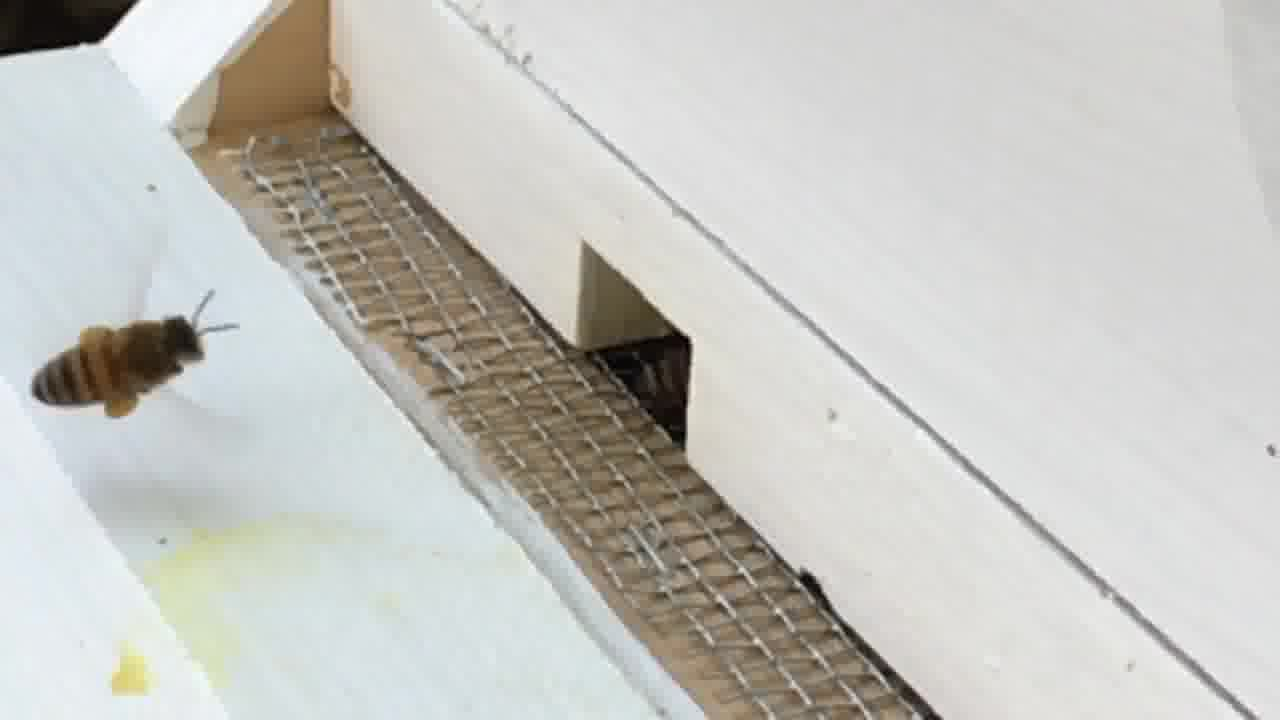pollen: (29, 307, 207, 423)
